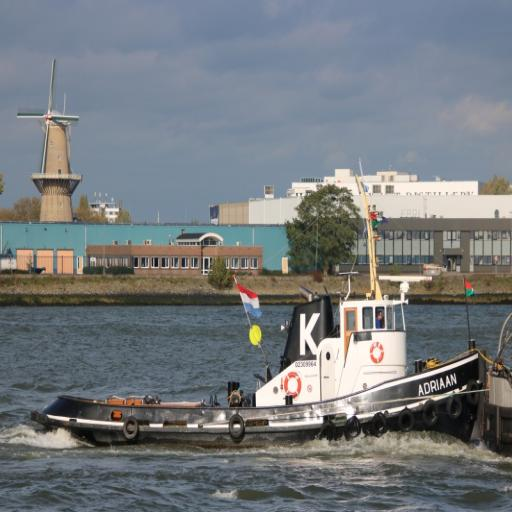tugboat: (30, 280, 494, 460)
